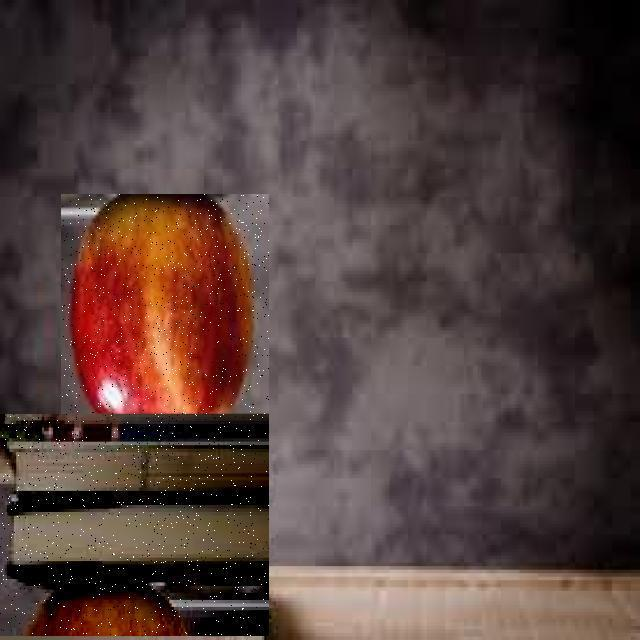Apple: (61, 195, 269, 465)
Book: (0, 415, 269, 637)
